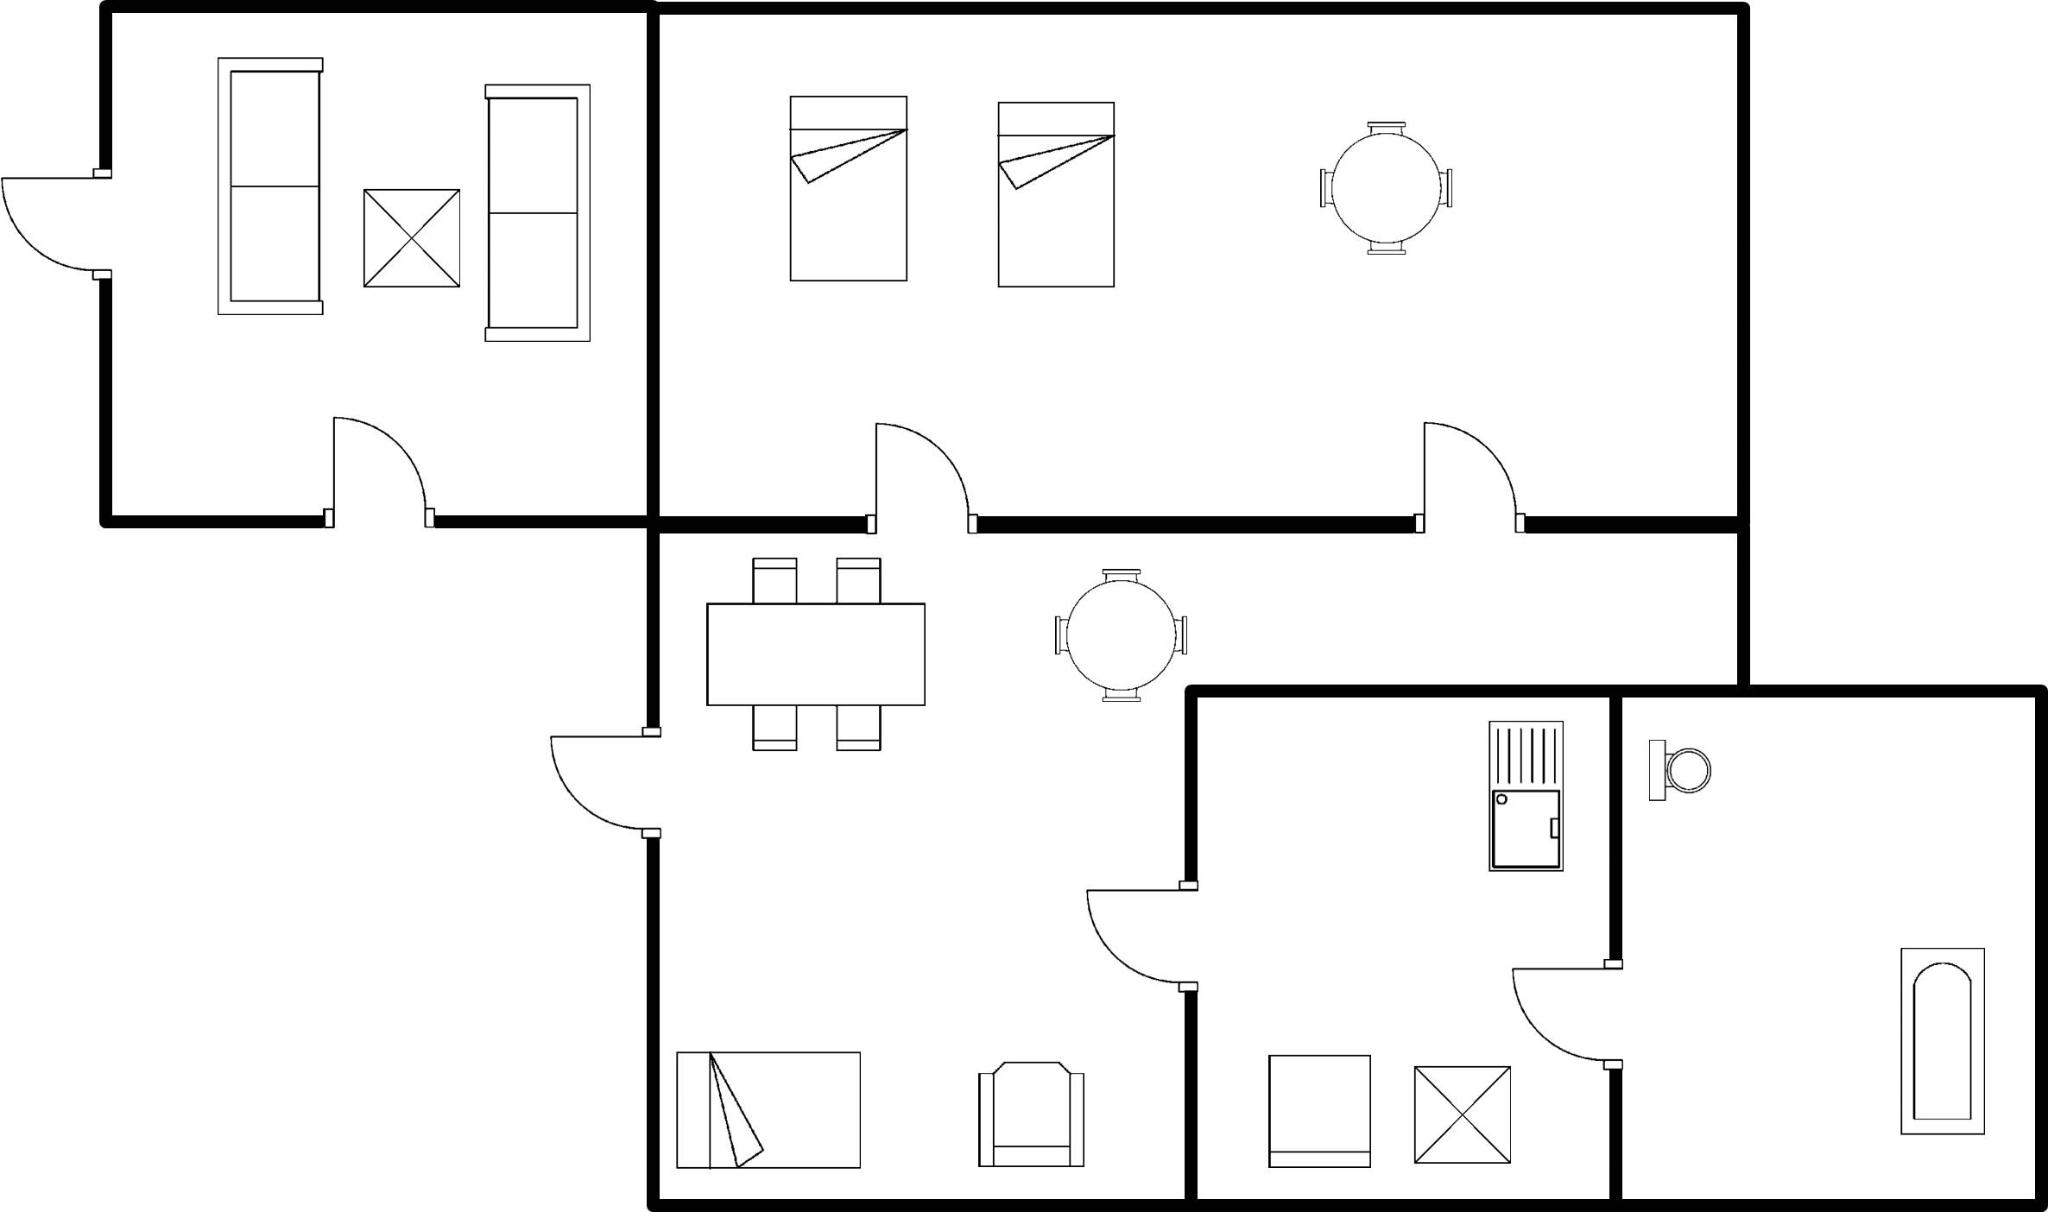bed: (779, 88, 922, 291), (668, 1039, 873, 1180), (988, 92, 1125, 300)
dining_table: (697, 543, 936, 762)
round_table: (1302, 111, 1461, 268), (1044, 560, 1191, 713)
sink: (1475, 710, 1573, 886)
sofa: (472, 71, 600, 355), (208, 45, 335, 326)
toilet: (1637, 724, 1722, 814)
tub: (1886, 934, 1998, 1146)
